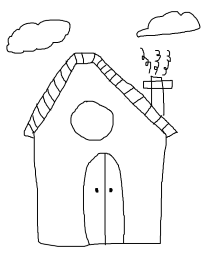clouds: (5, 17, 71, 54), (135, 7, 202, 37)
door: (75, 147, 132, 249)
open_window: (66, 96, 116, 144)
roof: (21, 50, 181, 138)
smoking_chimney: (133, 43, 176, 117)
wall: (29, 126, 169, 246)
